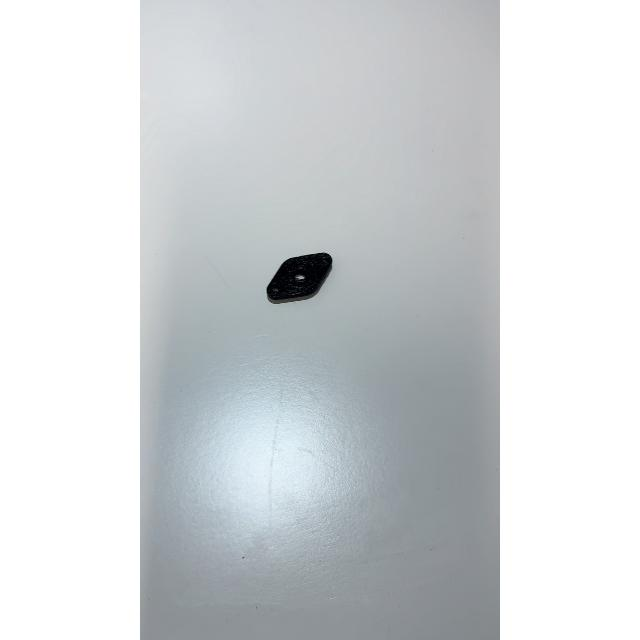Pieza_2: (258, 233, 338, 310)
